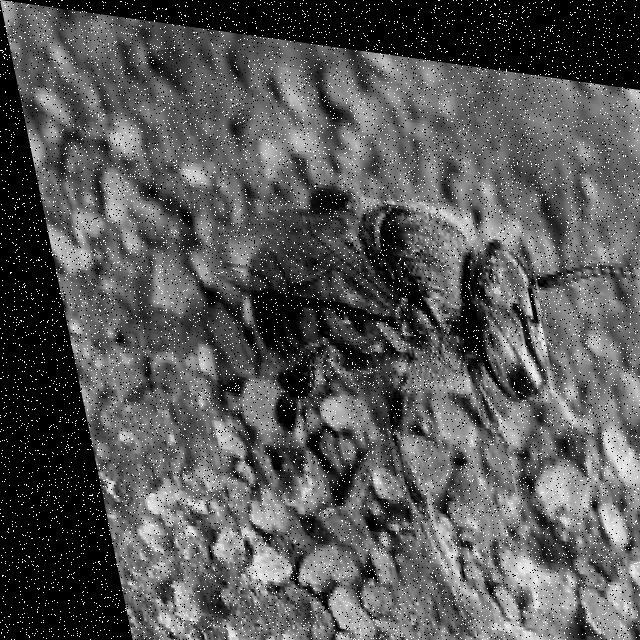Meliponula: (213, 126, 606, 487)
